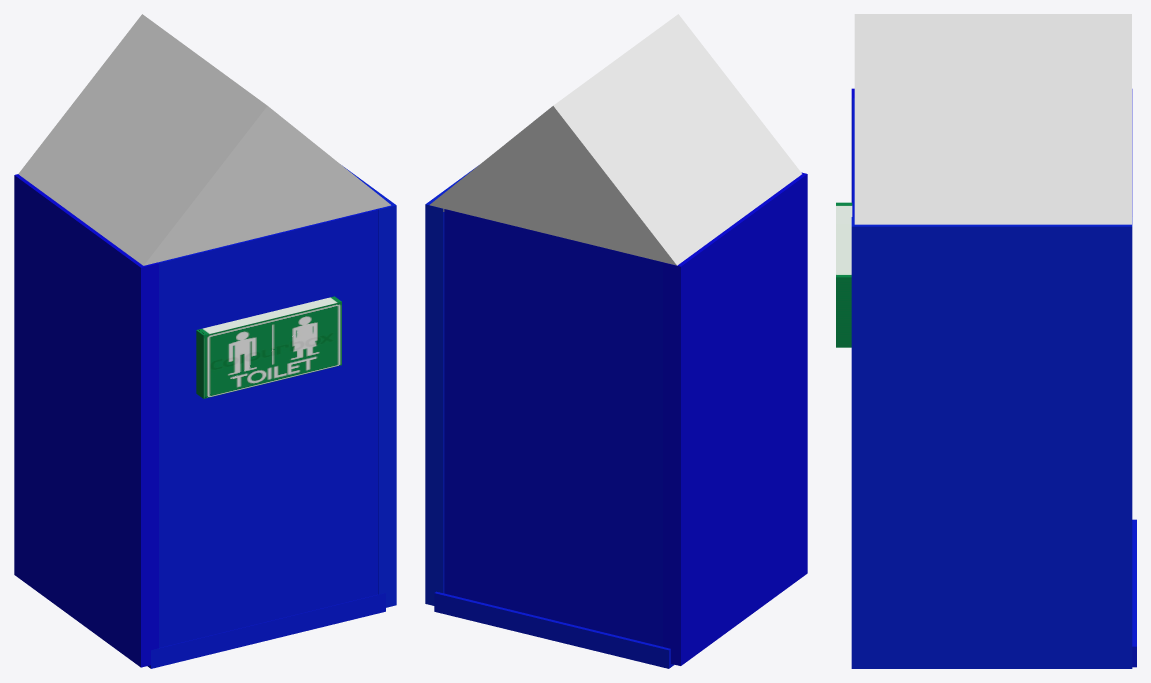
File: toilet.fbx
The picture shows the model from 3 angles, left to right: view 1: azimuth 30°, elevation 25°; view 2: azimuth 150°, elevation 25°; view 3: azimuth 270°, elevation 25°; orthographic projection. The views are drawn at different scales.
Parts seen in each view (by area): view 1: Cube.003, Cube, Cube.005, Cube.004, Cube.002, Cube.006; view 2: Cube.001, Cube, Cube.005, Cube.002, Cube.006; view 3: Cube.002, Cube.005, Cube.004, Cube.006.
Boxes of the visible parts, bbox=[...] form: Cube.003: bbox=[158, 209, 378, 647]; Cube: bbox=[14, 174, 158, 667]; Cube.005: bbox=[18, 14, 390, 265]; Cube.004: bbox=[196, 296, 341, 398]; Cube.002: bbox=[342, 165, 396, 607]; Cube.006: bbox=[147, 593, 385, 668]; Cube.001: bbox=[444, 209, 662, 646]; Cube: bbox=[663, 172, 807, 665]; Cube.005: bbox=[429, 14, 801, 265]; Cube.002: bbox=[425, 165, 478, 605]; Cube.006: bbox=[434, 591, 674, 668]; Cube.002: bbox=[851, 217, 1132, 668]; Cube.005: bbox=[854, 14, 1131, 224]; Cube.004: bbox=[836, 202, 852, 347]; Cube.006: bbox=[1132, 519, 1136, 667].
Bounding box in the file's own units: 378 × 752 × 347.
